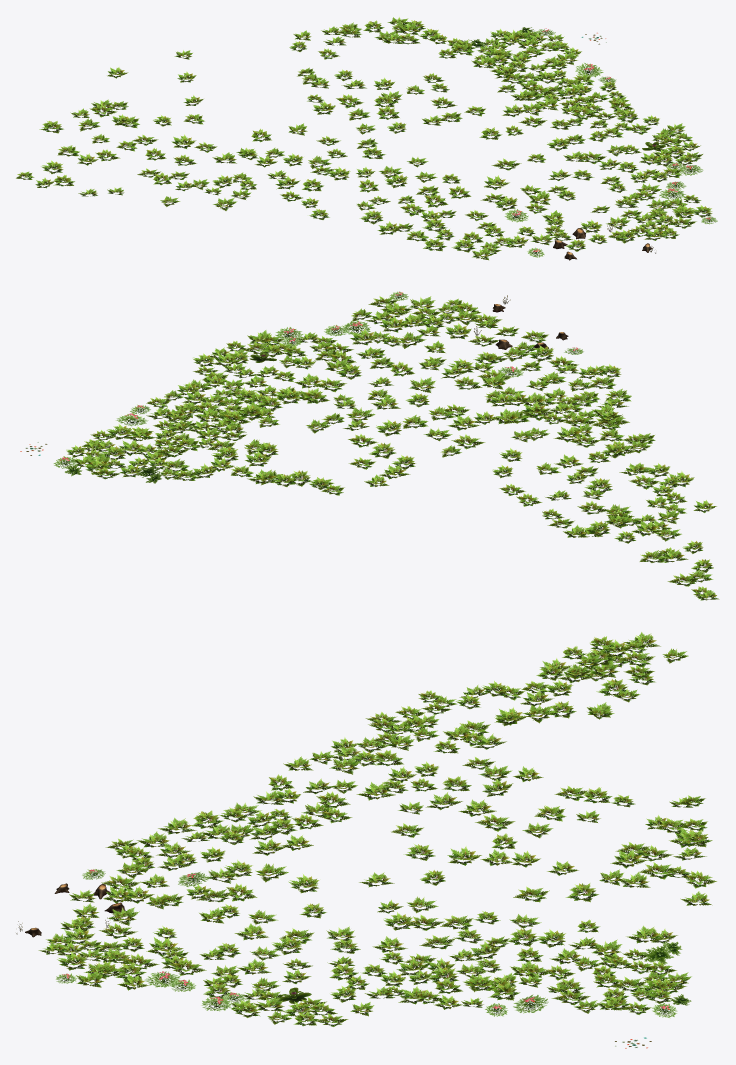
File: Ferns_04.fbx
3 views of the same model, one above another, from view 1: azimuth 30°, elevation 25°; view 2: azimuth 150°, elevation 25°; view 3: azimuth 270°, elevation 25° (orthographic). The views are drawn at different scales.
Visible parts, largest first — view 1: Ferns_04; view 2: Ferns_04; view 3: Ferns_04.
Boxes of the visible parts, left/top/right/bottom form: Ferns_04: left=16, top=17, right=717, bottom=260; Ferns_04: left=20, top=291, right=719, bottom=600; Ferns_04: left=16, top=632, right=716, bottom=1048.
Size of the model in its own units: 11602 by 1692 by 8971.
